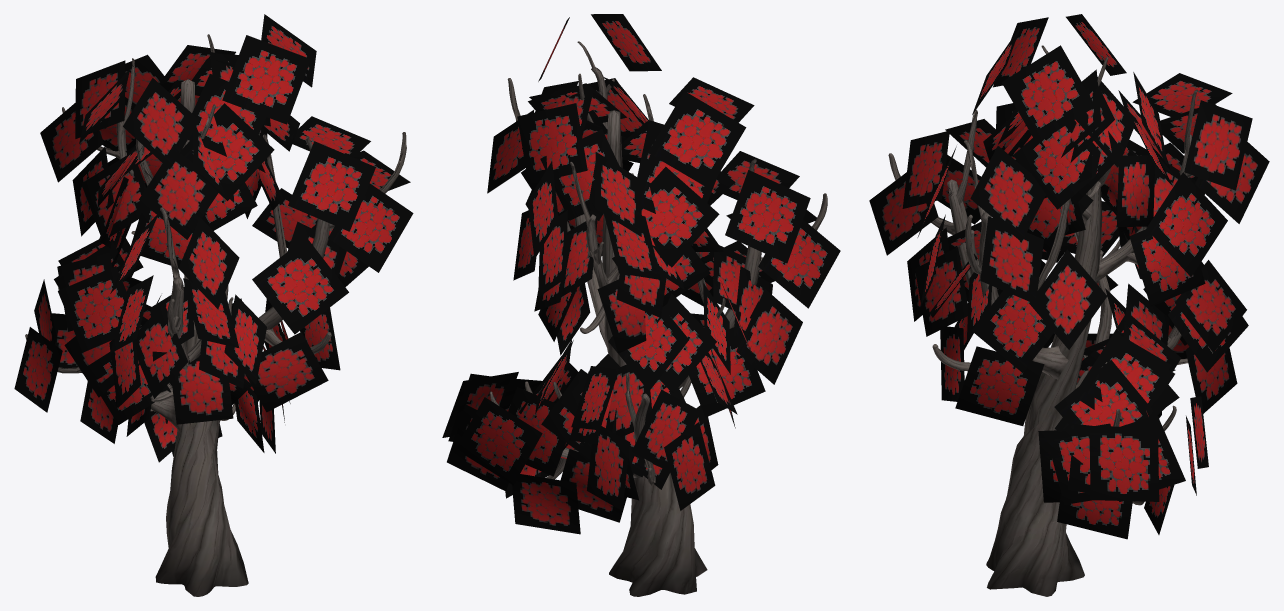
The model's file is arbre-tordu-large.lod1.glb.
3 views of the same model, side by side, from view 1: azimuth 30°, elevation 25°; view 2: azimuth 150°, elevation 25°; view 3: azimuth 270°, elevation 25° (orthographic). The views are drawn at different scales.
Visible parts, largest first — view 1: TwistedTree_3; view 2: TwistedTree_3; view 3: TwistedTree_3.
Boxes of the visible parts, box(x1,y1,x2,y2) form: TwistedTree_3: box(14, 14, 413, 596); TwistedTree_3: box(442, 14, 840, 596); TwistedTree_3: box(869, 14, 1269, 596).
Size of the model in its own units: 9.47 by 15.83 by 10.06.
2 materials, 2 textured.
